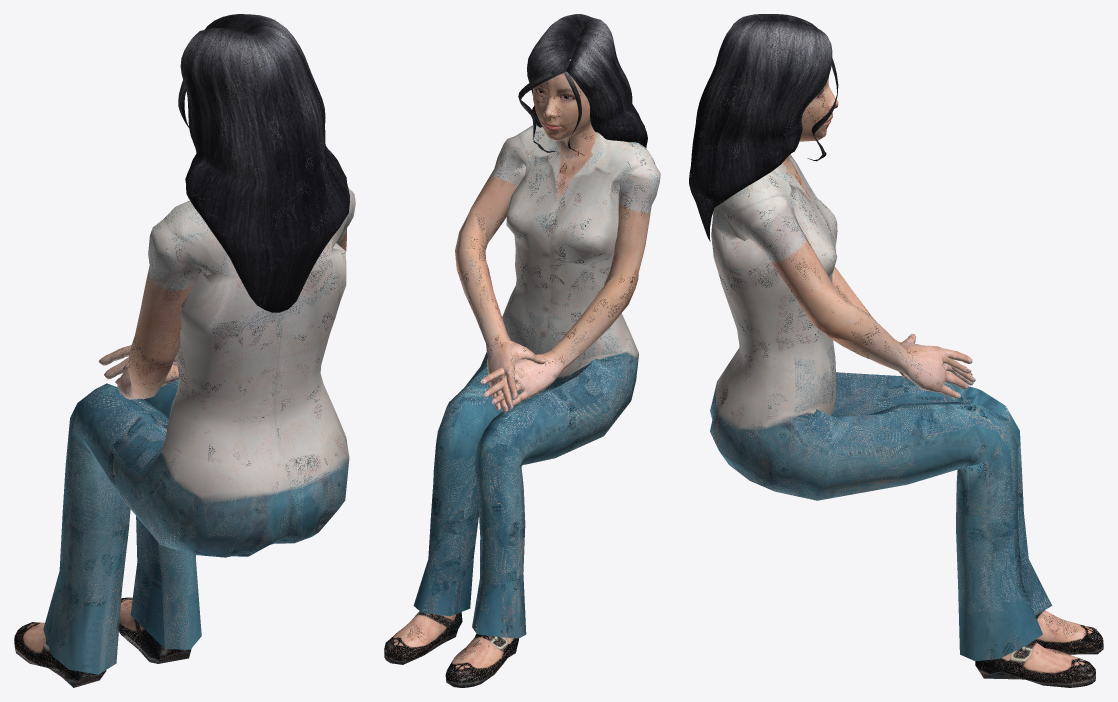
The model's file is OturanKadin.fbx.
3 renders of one model, left to right at view 1: azimuth 30°, elevation 25°; view 2: azimuth 150°, elevation 25°; view 3: azimuth 270°, elevation 25°, orthographic. The views are drawn at different scales.
Visible parts, largest first — view 1: skpC58_1; view 2: skpC58_1; view 3: skpC58_1.
Boxes of the visible parts, bbox=[...] form: skpC58_1: bbox=[14, 14, 355, 687]; skpC58_1: bbox=[384, 14, 660, 687]; skpC58_1: bbox=[689, 14, 1103, 687].
Size of the model in its own units: 16.05 by 51.12 by 29.86.
